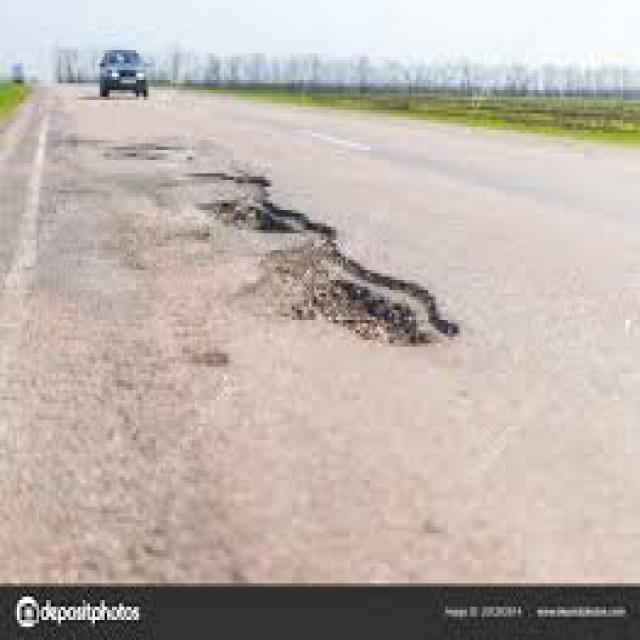Pothole: (100, 133, 460, 410)
